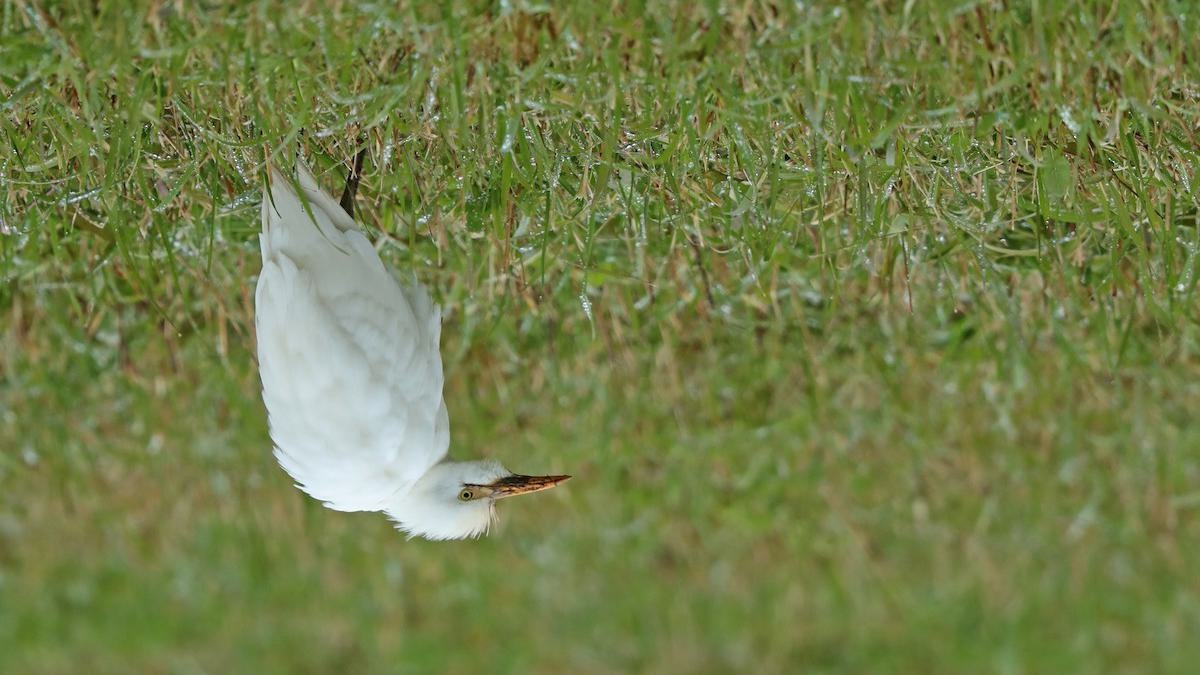egret: (221, 115, 583, 558)
